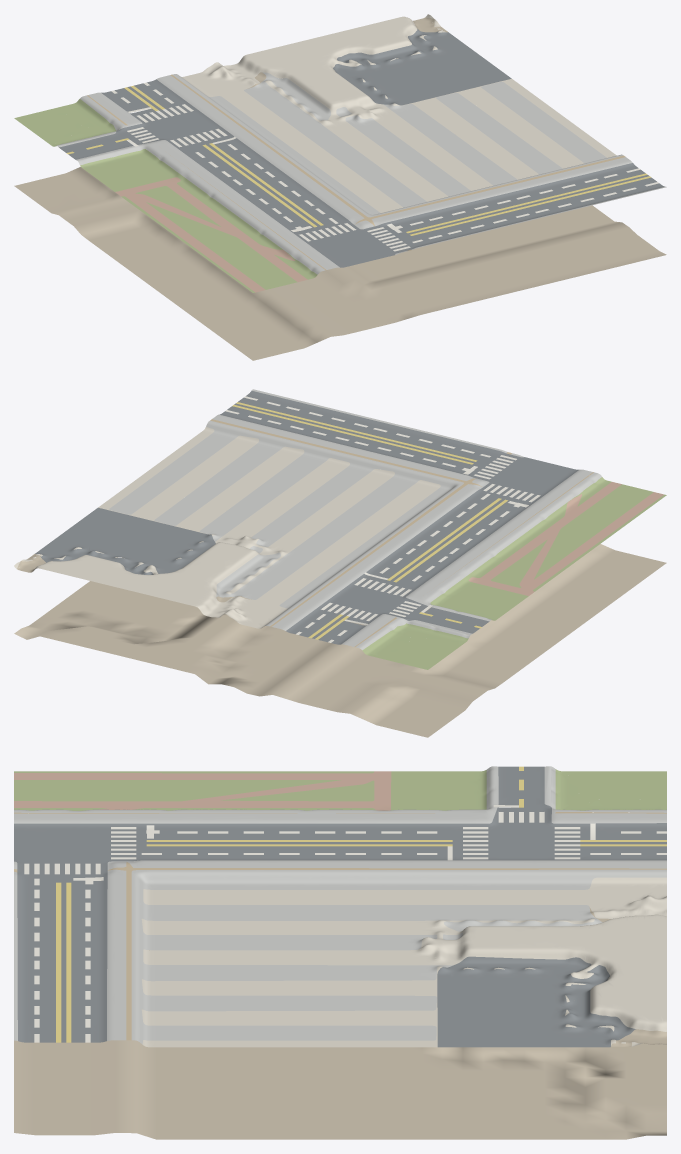
3 renders of one model, top to bottom at view 1: azimuth 30°, elevation 25°; view 2: azimuth 150°, elevation 25°; view 3: azimuth 270°, elevation 25°, orthographic. The views are drawn at different scales.
Visible parts, largest first — view 1: s_-9_0__soil, s_-9_0__stone_paving, s_-9_0__asphalt, s_-9_0__paving, s_-9_0__grass, s_-9_0__brick_paving, s_-9_0__white_marking, s_-9_0__yellow_marking, s_-9_0__timber_deck; view 2: s_-9_0__soil, s_-9_0__stone_paving, s_-9_0__asphalt, s_-9_0__paving, s_-9_0__grass, s_-9_0__brick_paving, s_-9_0__white_marking, s_-9_0__yellow_marking, s_-9_0__timber_deck; view 3: s_-9_0__soil, s_-9_0__stone_paving, s_-9_0__asphalt, s_-9_0__paving, s_-9_0__grass, s_-9_0__brick_paving, s_-9_0__white_marking, s_-9_0__yellow_marking, s_-9_0__timber_deck.
Part boxes in pixels (x1,y1,x2,y2): s_-9_0__soil: [14, 17, 666, 360]; s_-9_0__stone_paving: [57, 72, 666, 274]; s_-9_0__asphalt: [59, 29, 664, 267]; s_-9_0__paving: [71, 14, 616, 212]; s_-9_0__grass: [14, 99, 317, 292]; s_-9_0__brick_paving: [115, 177, 307, 292]; s_-9_0__white_marking: [111, 82, 658, 251]; s_-9_0__yellow_marking: [66, 85, 651, 235]; s_-9_0__timber_deck: [87, 74, 625, 270]; s_-9_0__soil: [14, 541, 666, 737]; s_-9_0__stone_paving: [109, 389, 601, 650]; s_-9_0__asphalt: [35, 390, 578, 644]; s_-9_0__paving: [14, 427, 440, 641]; s_-9_0__grass: [362, 477, 666, 669]; s_-9_0__brick_paving: [468, 482, 663, 595]; s_-9_0__white_marking: [225, 396, 540, 642]; s_-9_0__yellow_marking: [232, 402, 507, 639]; s_-9_0__timber_deck: [210, 419, 593, 646]; s_-9_0__soil: [14, 880, 666, 1139]; s_-9_0__stone_paving: [14, 766, 666, 1044]; s_-9_0__asphalt: [14, 766, 666, 1047]; s_-9_0__paving: [141, 775, 666, 1047]; s_-9_0__grass: [14, 769, 666, 810]; s_-9_0__brick_paving: [14, 771, 391, 810]; s_-9_0__white_marking: [24, 805, 666, 1042]; s_-9_0__yellow_marking: [56, 766, 666, 1042]; s_-9_0__timber_deck: [14, 812, 666, 1040].
Bounding box in the file's own units: 128 × 22.03 × 128.
